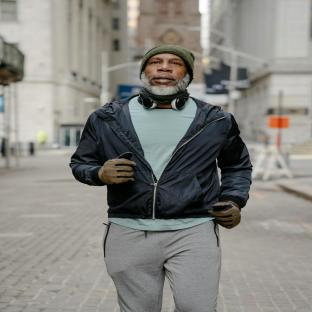Human: (70, 45, 252, 312)
